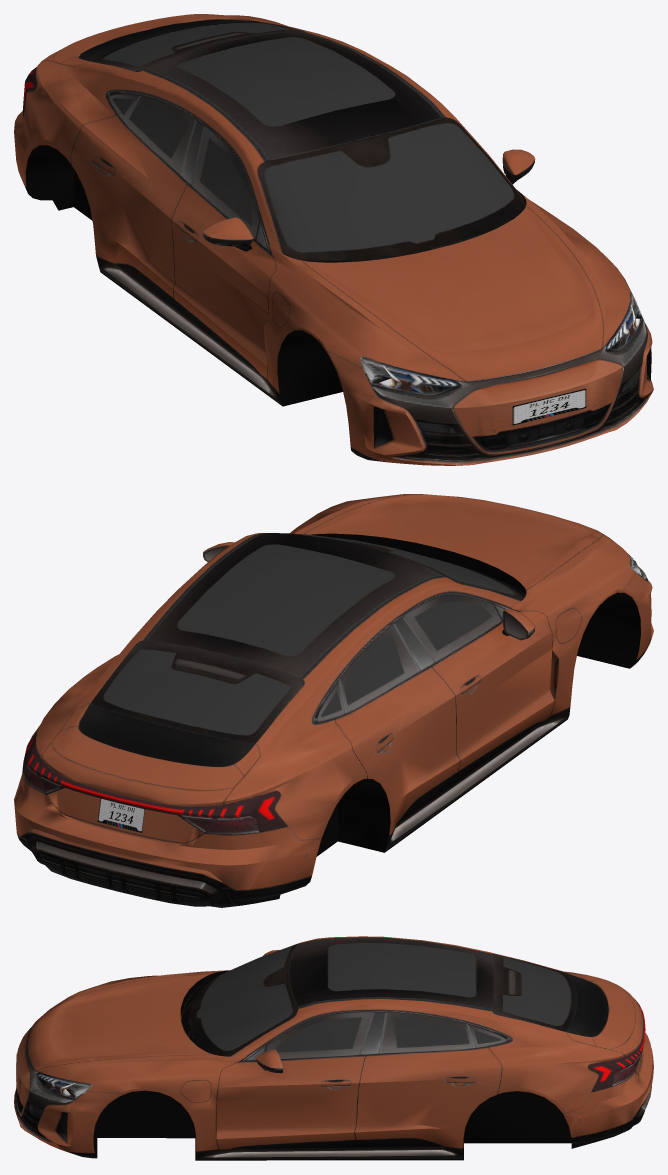
File: Car tron.fbx
3 renders of one model, top to bottom at view 1: azimuth 30°, elevation 25°; view 2: azimuth 150°, elevation 25°; view 3: azimuth 270°, elevation 25°, orthographic. The views are drawn at different scales.
Parts seen in each view (by area): view 1: tron_car; view 2: tron_car; view 3: tron_car.
Boxes of the visible parts, x1=… form: tron_car: x1=14, y1=14, x2=653, y2=465; tron_car: x1=14, y1=494, x2=653, y2=907; tron_car: x1=14, y1=936, x2=653, y2=1160.
Size of the model in its own units: 643 by 374 by 1486.
Materials: 1 (1 with a texture image).
